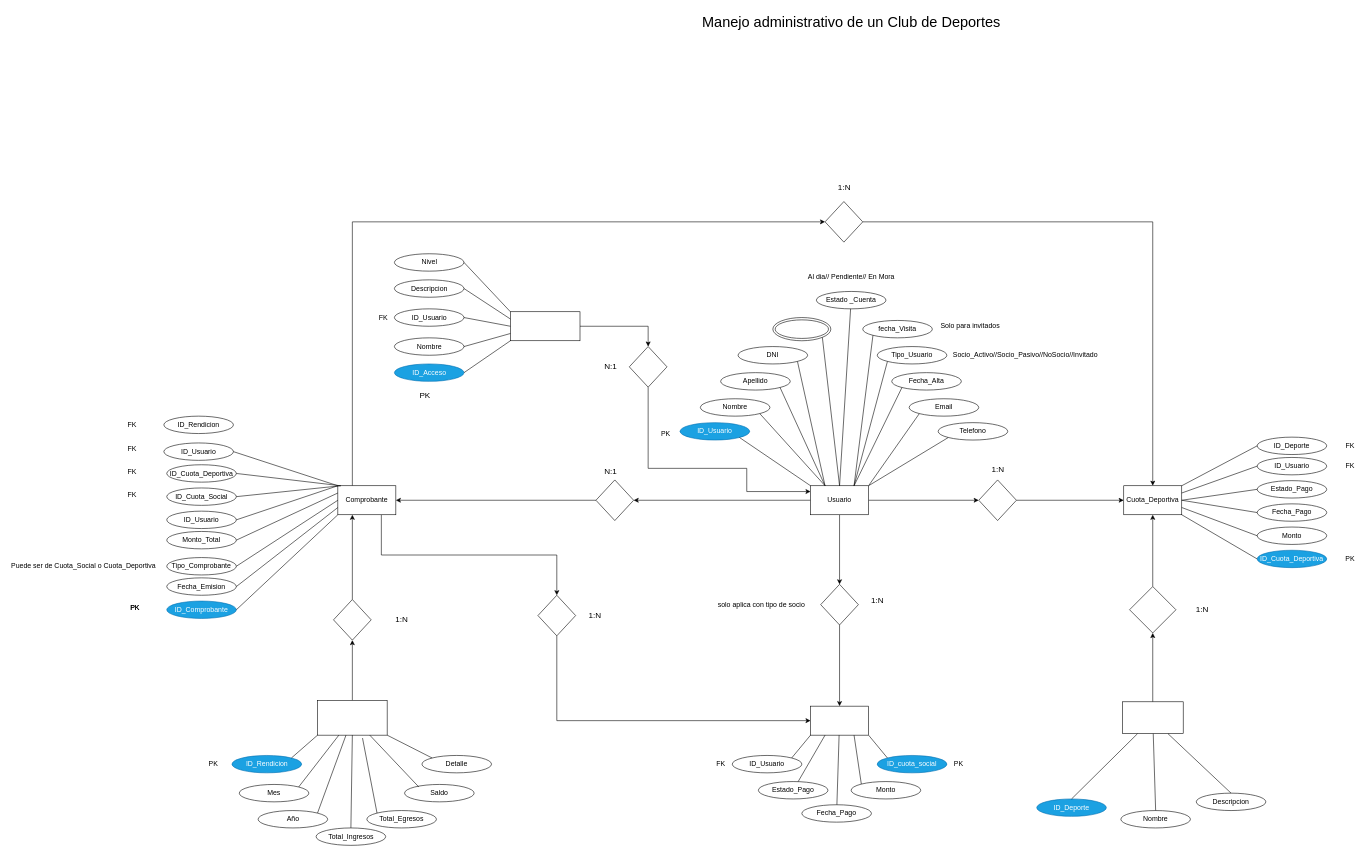
Image size: 1371x856. Some labels were removed from this diagram. The shapes that lost their labels are listed below. From the top down, each one's centre as x and y in pixels, then its label:
At pixel 843 221: "Generan".
At pixel 545 326: "Acceso_Restricciones".
At pixel 801 329: "Direccion".
At pixel 648 366: "Define".
At pixel 614 500: "Emite".
At pixel 997 500: "Pagan".
At pixel 352 619: "Contiene".
At pixel 556 615: "Genera".
At pixel 839 604: "Paga".
At pixel 1152 609: "Corresponde".
At pixel 352 717: "Rendicion_Cuentas".
At pixel 839 720: "Cuota_Social".
At pixel 1152 717: "Deporte".
